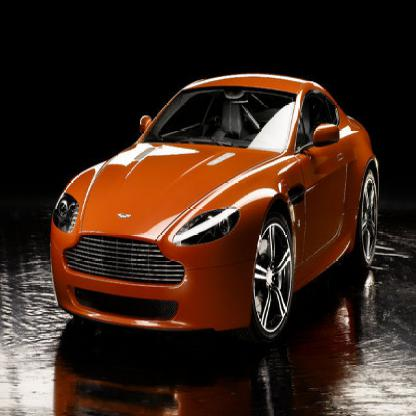Vehicle: (45, 63, 390, 374)
